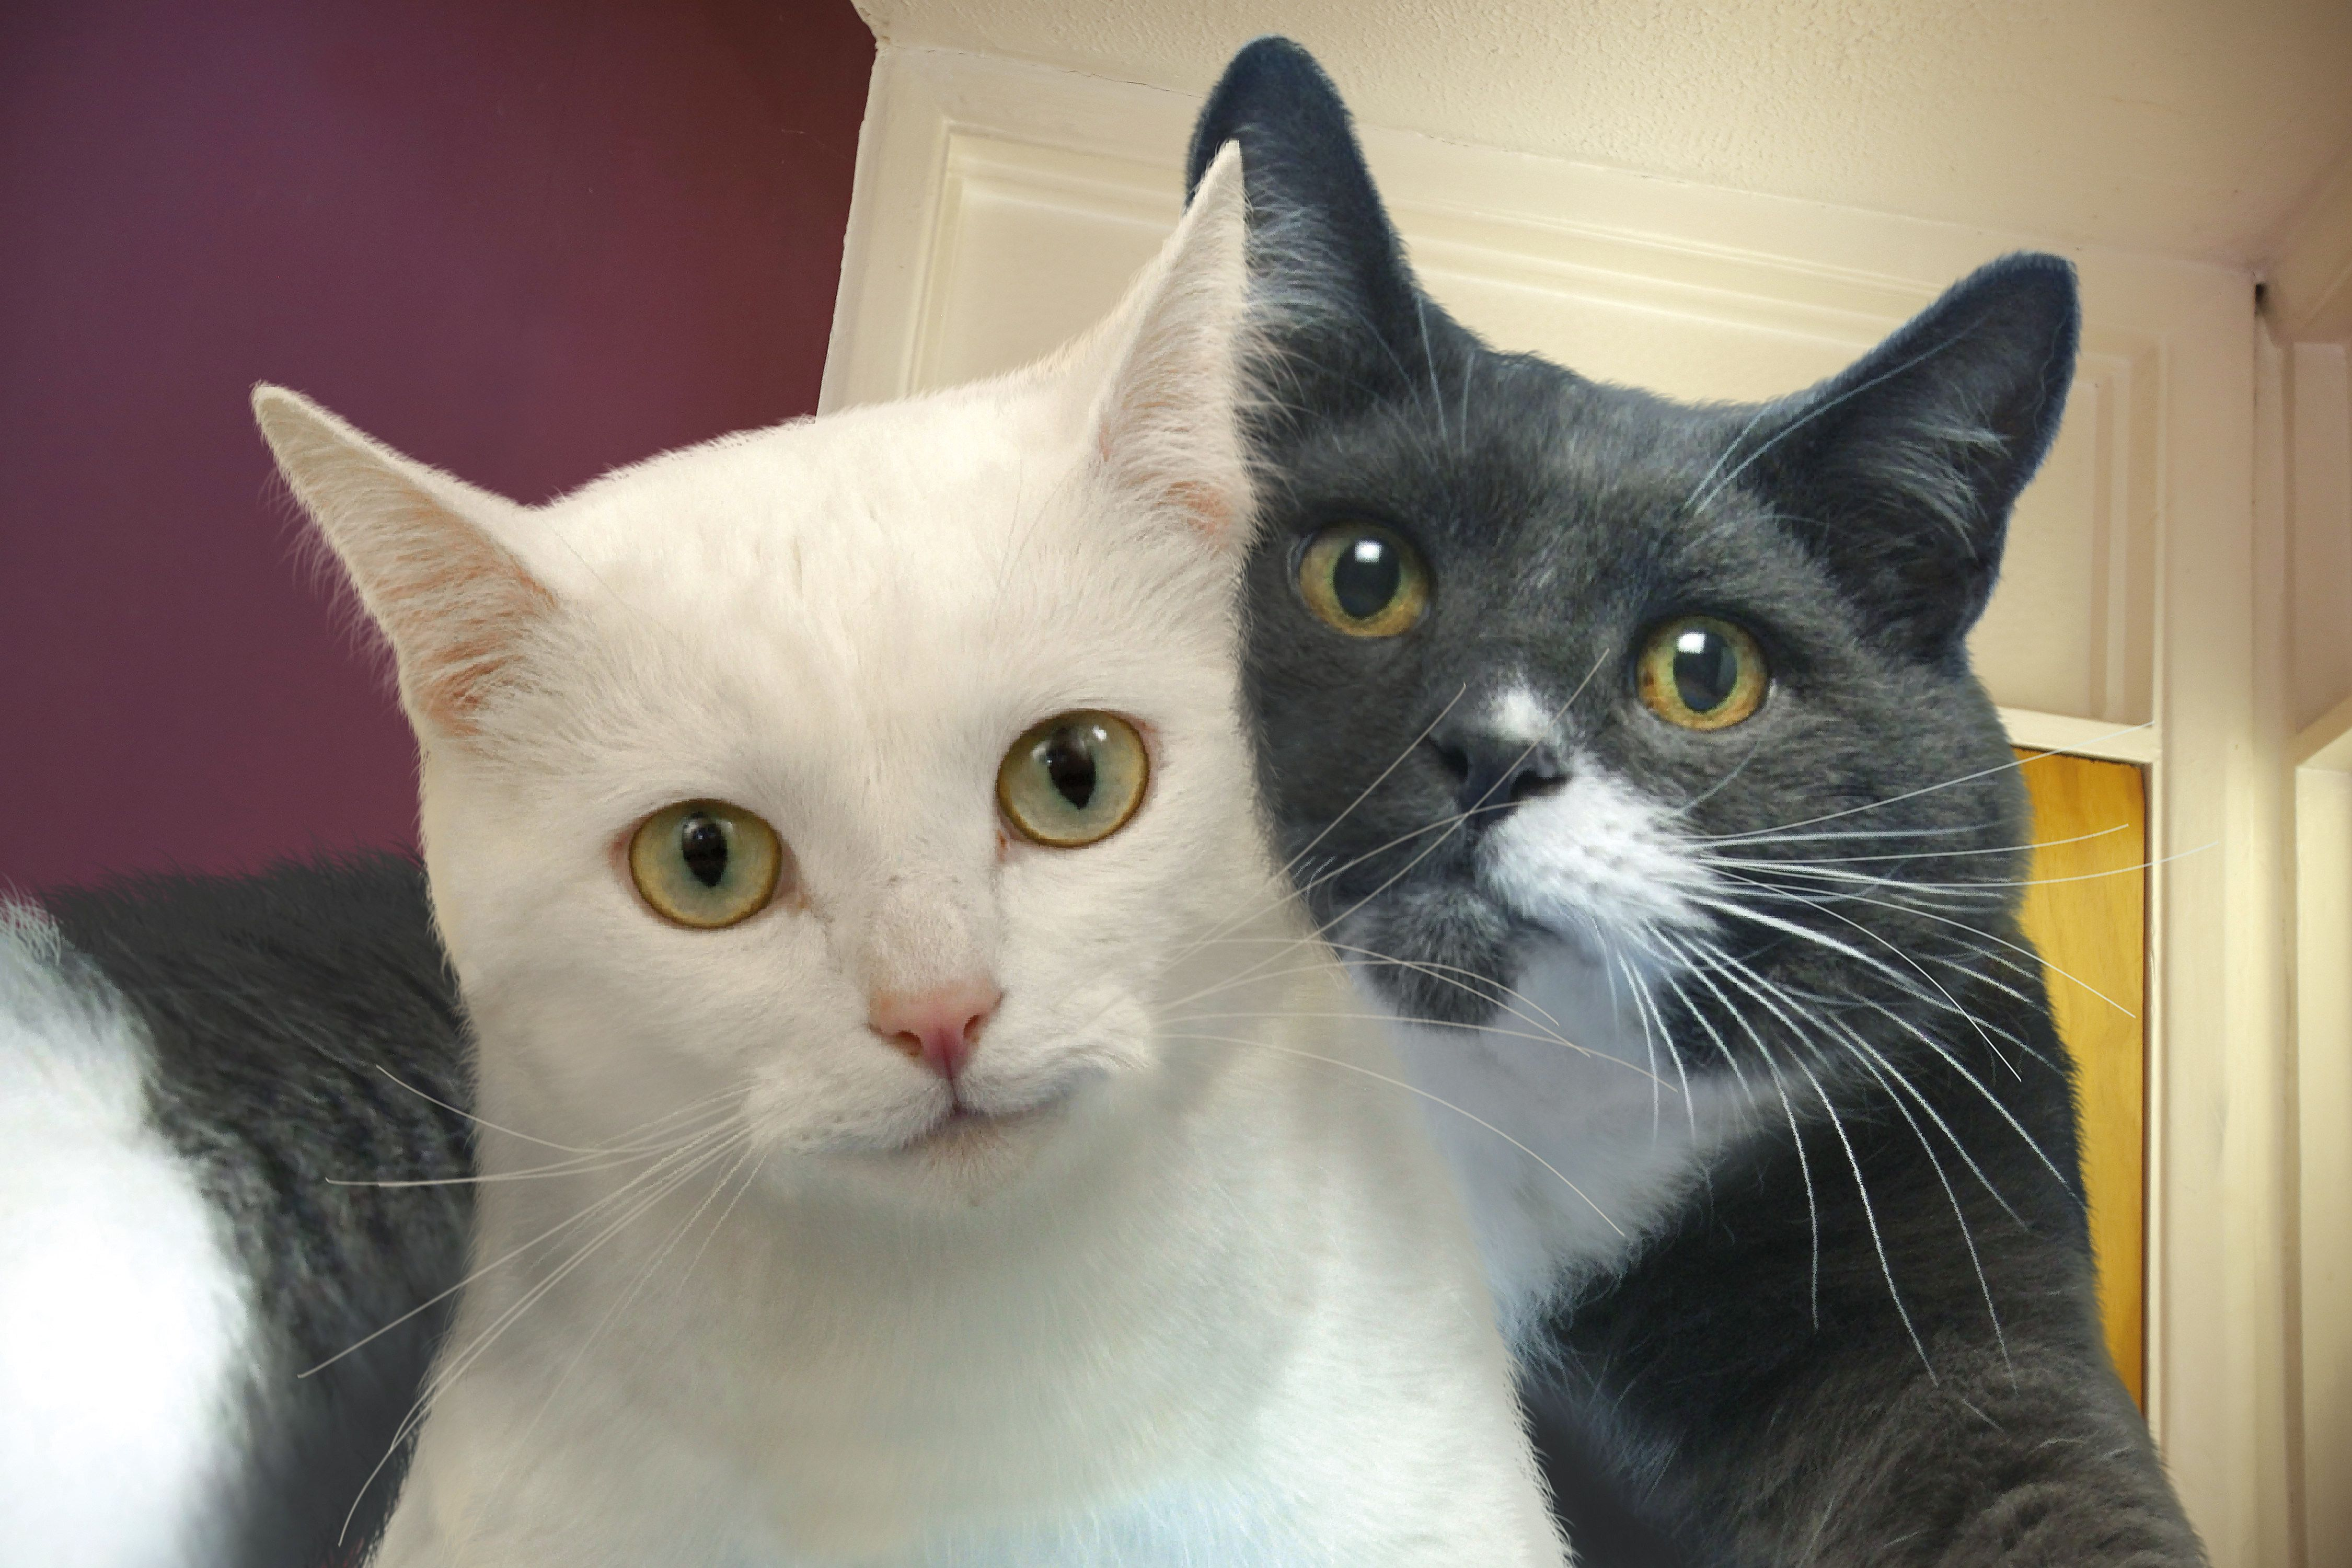cat: (196, 47, 2103, 1323)
